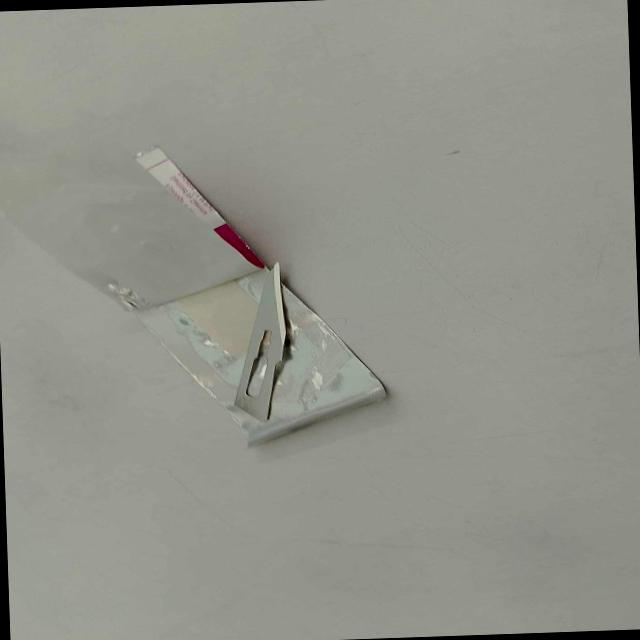General: (162, 264, 355, 426)
Sharps: (127, 143, 389, 447), (106, 277, 228, 407)
